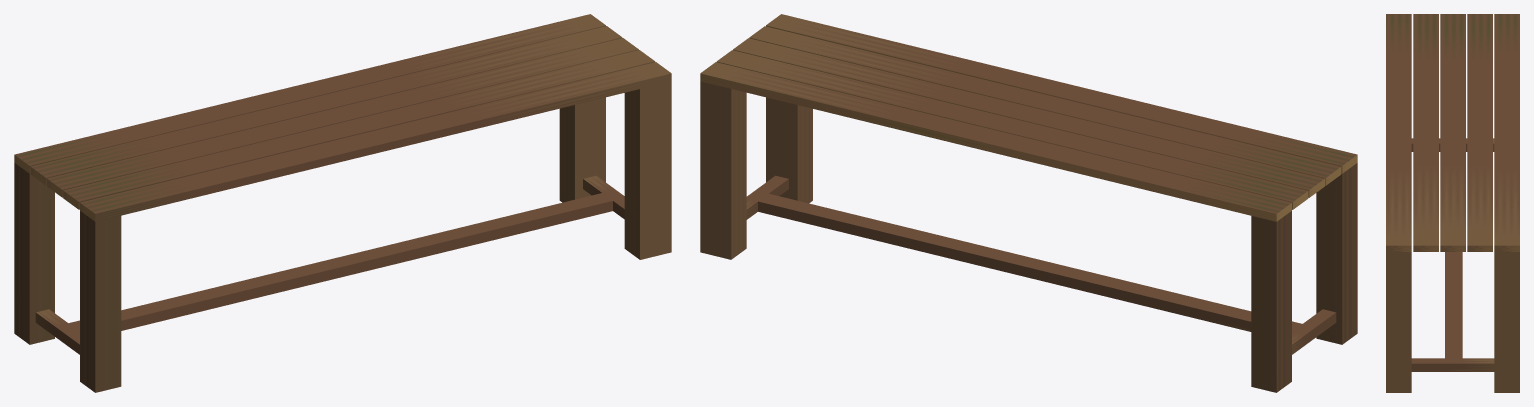
File: Woodenbench1.fbx
The picture shows the model from 3 angles, left to right: view 1: azimuth 30°, elevation 25°; view 2: azimuth 150°, elevation 25°; view 3: azimuth 270°, elevation 25°; orthographic projection. The views are drawn at different scales.
Visible parts, largest first — view 1: WoodBench1; view 2: WoodBench1; view 3: WoodBench1.
Part boxes in pixels (x1=…): WoodBench1: x1=14, y1=14, x2=671, y2=392; WoodBench1: x1=700, y1=14, x2=1357, y2=392; WoodBench1: x1=1386, y1=14, x2=1519, y2=392.
Bounding box in the file's own units: 167 × 49.67 × 40.86.
1 material, 1 textured.
